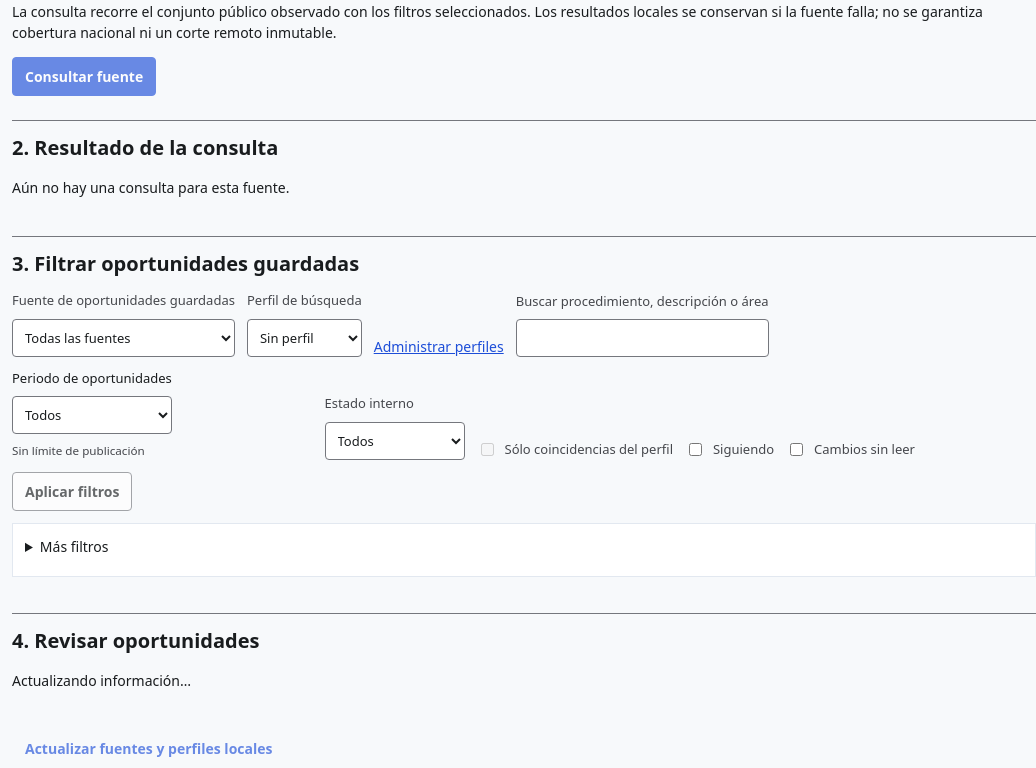
Test case: Discovery independiente › expone PARTIAL y fallo de página sin declararlo completo
(page scrolled)
Click the button "Actualizar fuentes y perfiles locales". click: [149, 748]
box: [12,729,286,767]
(page scrolled)
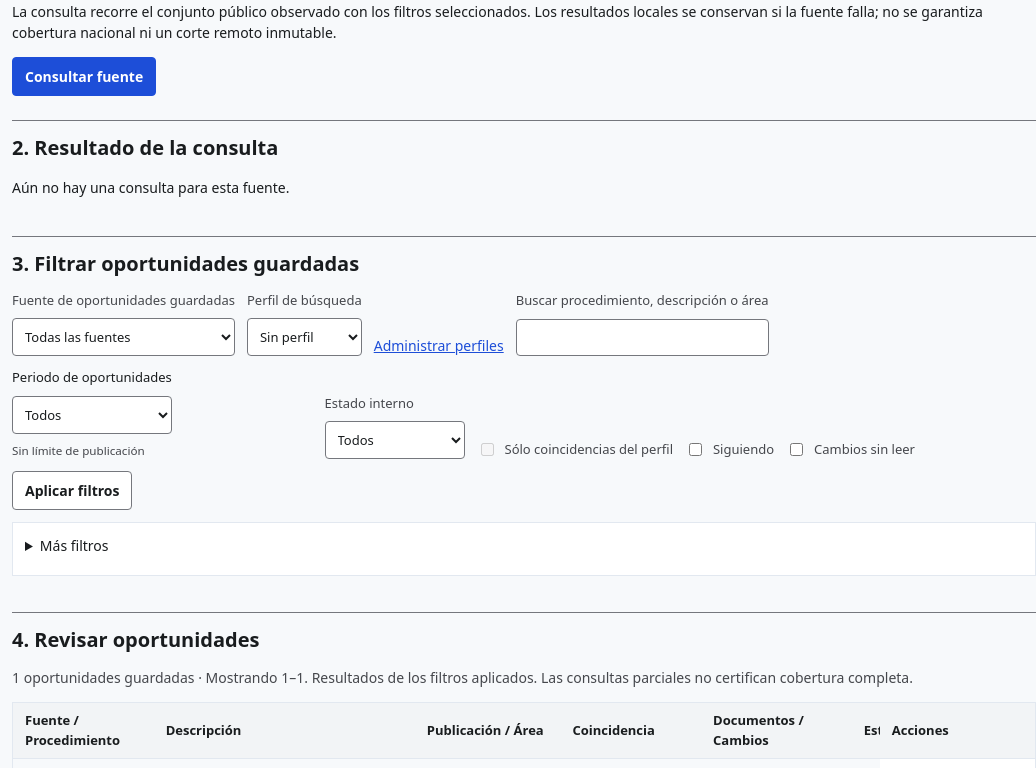
Click the button "Consultar fuente". click: [84, 76]
box: [12,57,156,96]
(page scrolled)
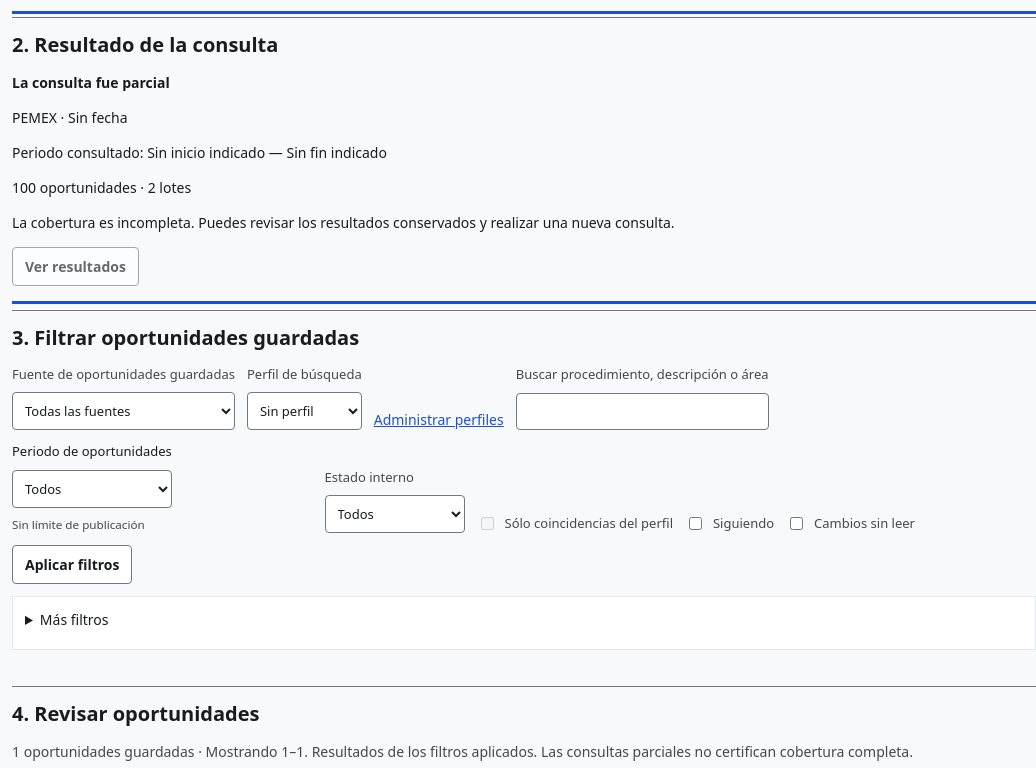
Expected: the text "La consulta fue parcial" is shown, [12,73,170,92]
Expected: the text "La cobertura es incompleta" is shown, [12,213,675,232]
